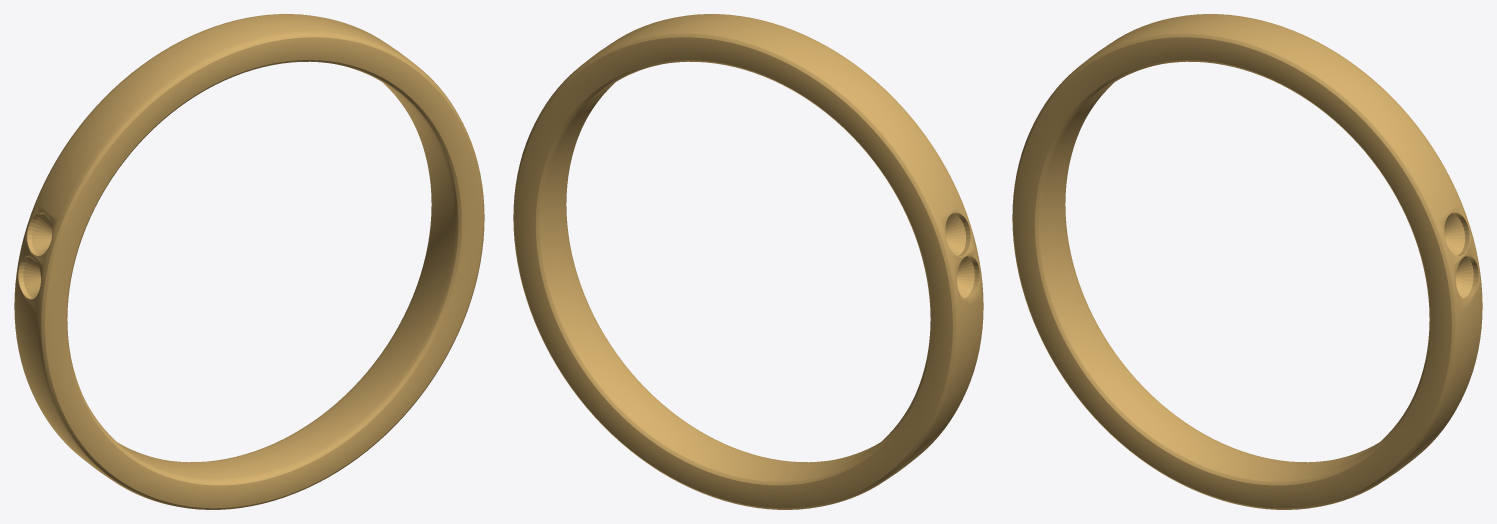
Rendered from flat-flush-accents-multi.glb.
3 renders of one model, left to right at view 1: azimuth 30°, elevation 25°; view 2: azimuth 150°, elevation 25°; view 3: azimuth 330°, elevation 25°, orthographic.
Parts seen in each view (by area): view 1: Band; view 2: Band; view 3: Band.
Boxes of the visible parts, x1,y1,x2,y2 form: Band: (14,14,484,509); Band: (513,14,983,509); Band: (1012,14,1482,509).
Bounding box in the file's own units: 19.6 × 19.6 × 2.3.
